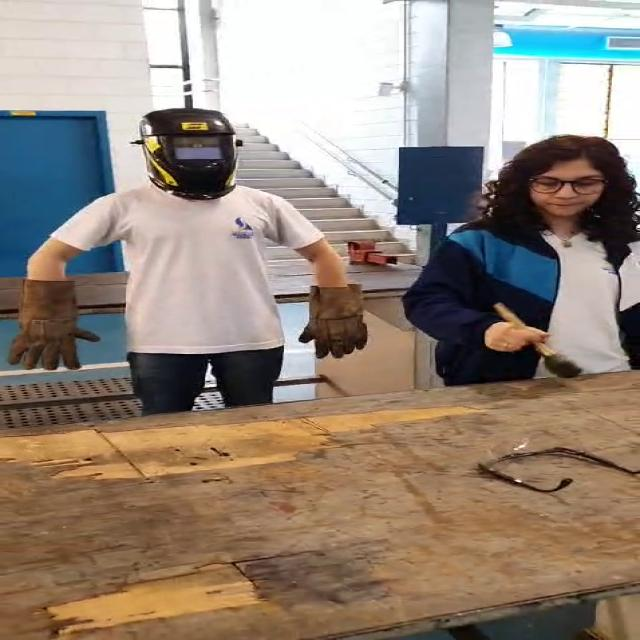sem_oculos: (516, 168, 614, 200)
